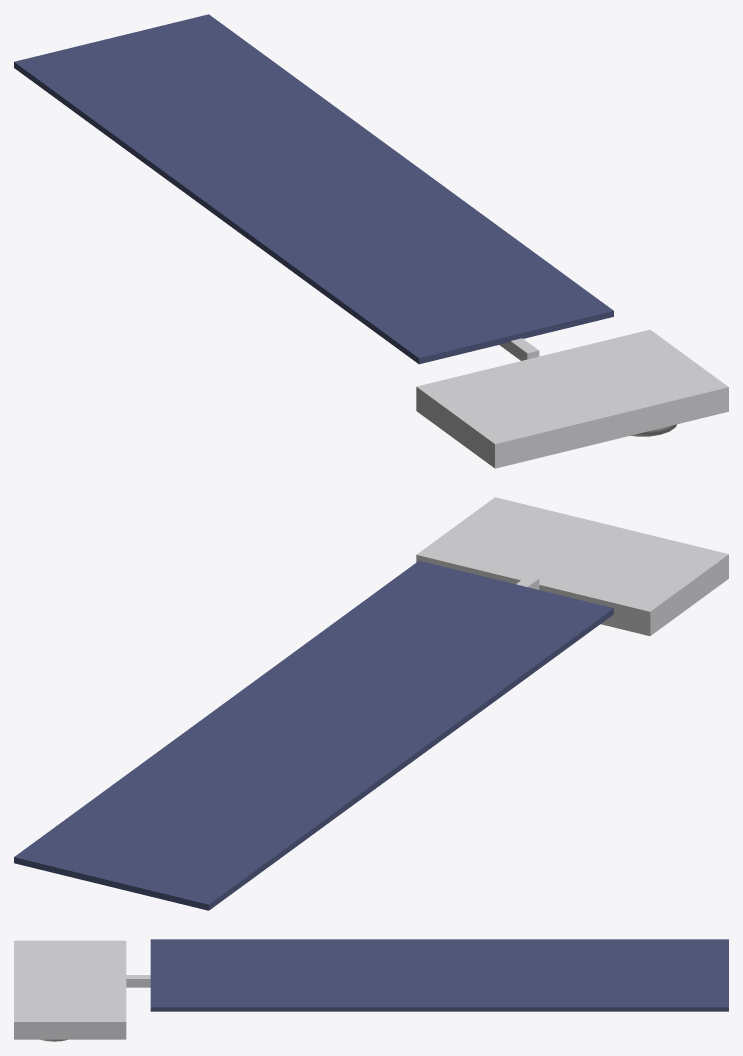
The model's file is satellite.glb.
The picture shows the model from 3 angles, top to bottom: view 1: azimuth 30°, elevation 25°; view 2: azimuth 150°, elevation 25°; view 3: azimuth 270°, elevation 25°; orthographic projection. The views are drawn at different scales.
Visible parts, largest first — view 1: Satellite; view 2: Satellite; view 3: Satellite.
Part boxes in pixels (left/top/right/bottom): Satellite: left=14, top=14, right=728, bottom=468; Satellite: left=14, top=497, right=728, bottom=910; Satellite: left=14, top=939, right=728, bottom=1041.
Bounding box in the file's own units: 0.6 × 0.1275 × 2.23.
